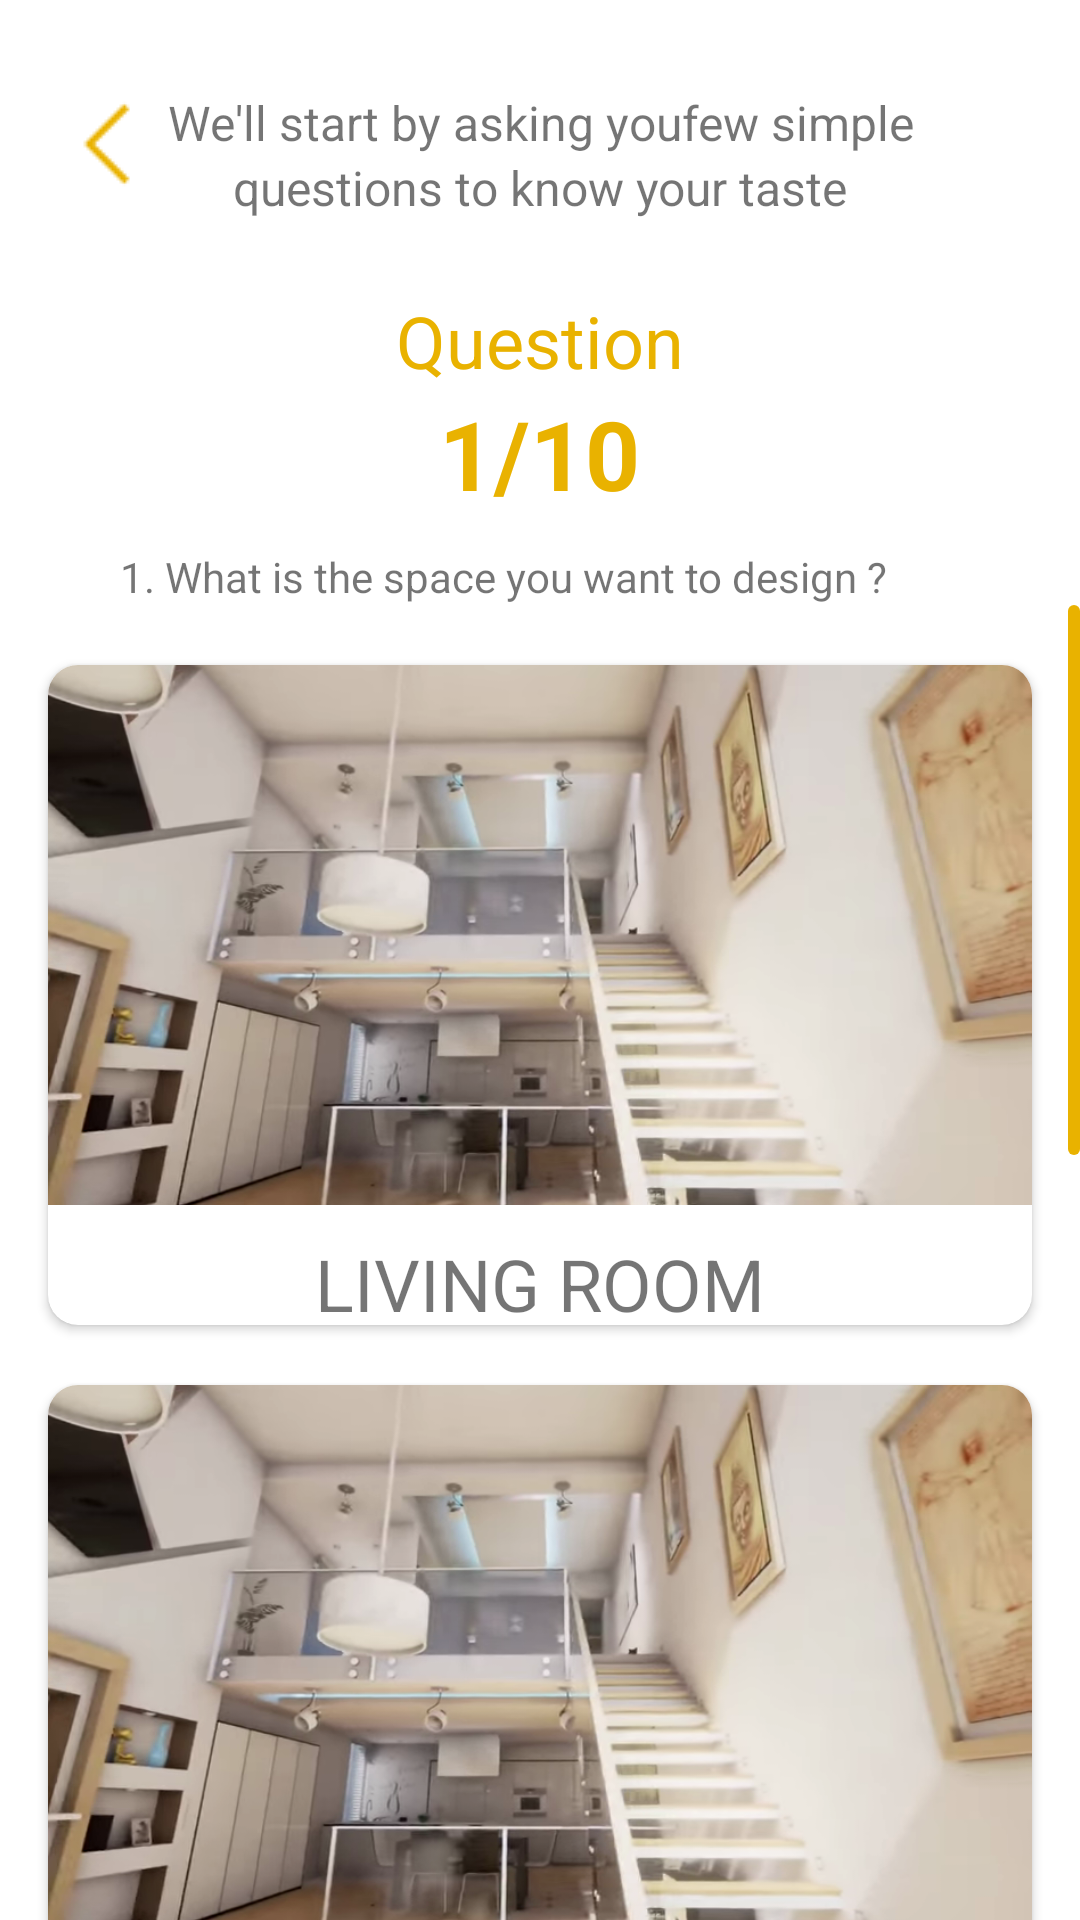

Screen size 1080 × 1920. Icon name, then its center in pixels as (x,y):
back: (106,144)
